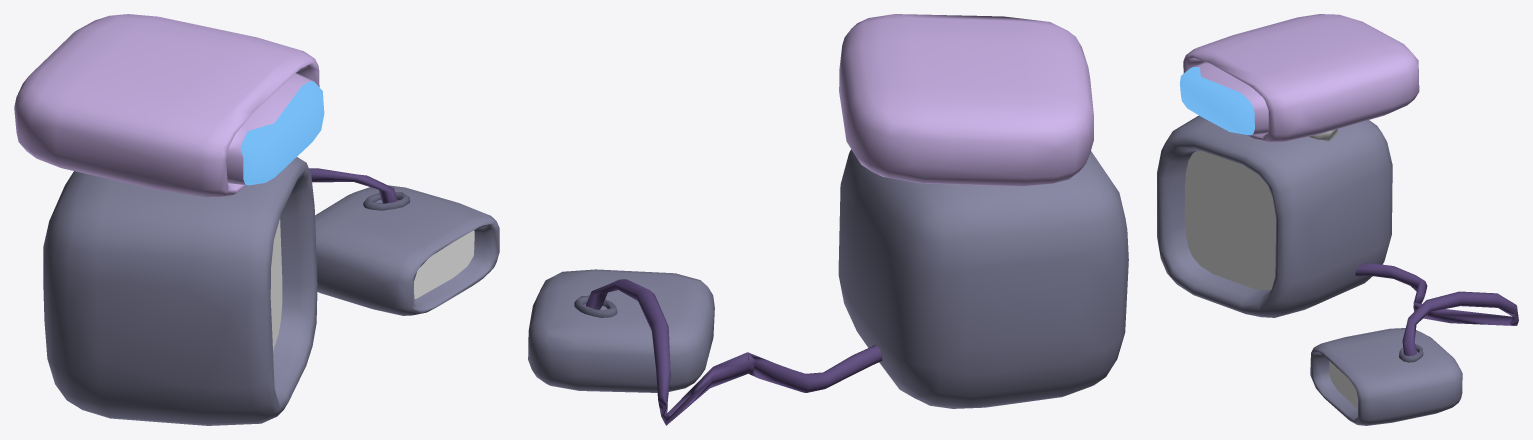
The model's file is machine_part1.glb.
3 views of the same model, side by side, from view 1: azimuth 30°, elevation 25°; view 2: azimuth 150°, elevation 25°; view 3: azimuth 270°, elevation 25° (orthographic). The views are drawn at different scales.
Visible parts, largest first — view 1: maquina_part1; view 2: maquina_part1; view 3: maquina_part1.
Part boxes in pixels (bbox=[...]): maquina_part1: bbox=[14, 14, 499, 425]; maquina_part1: bbox=[528, 14, 1128, 425]; maquina_part1: bbox=[1157, 14, 1518, 425].
Size of what is drawn, in the model's own units: 2.78 by 1.73 by 2.26.
